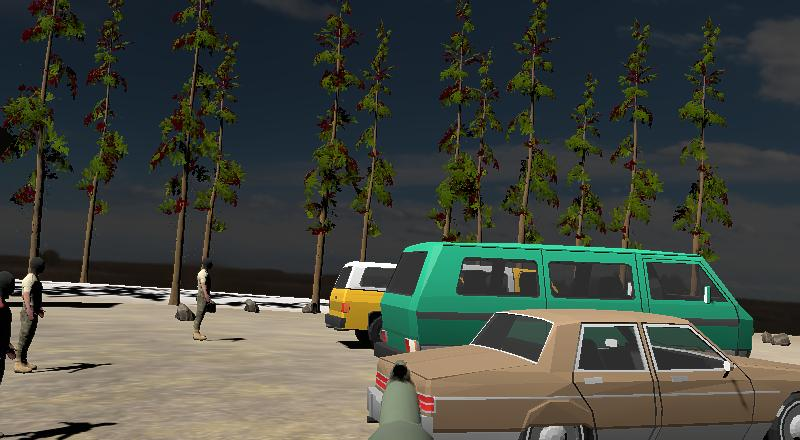Human: (13, 256, 52, 377), (192, 254, 216, 340)
car: (370, 313, 795, 439), (377, 244, 755, 359), (326, 258, 400, 346)
